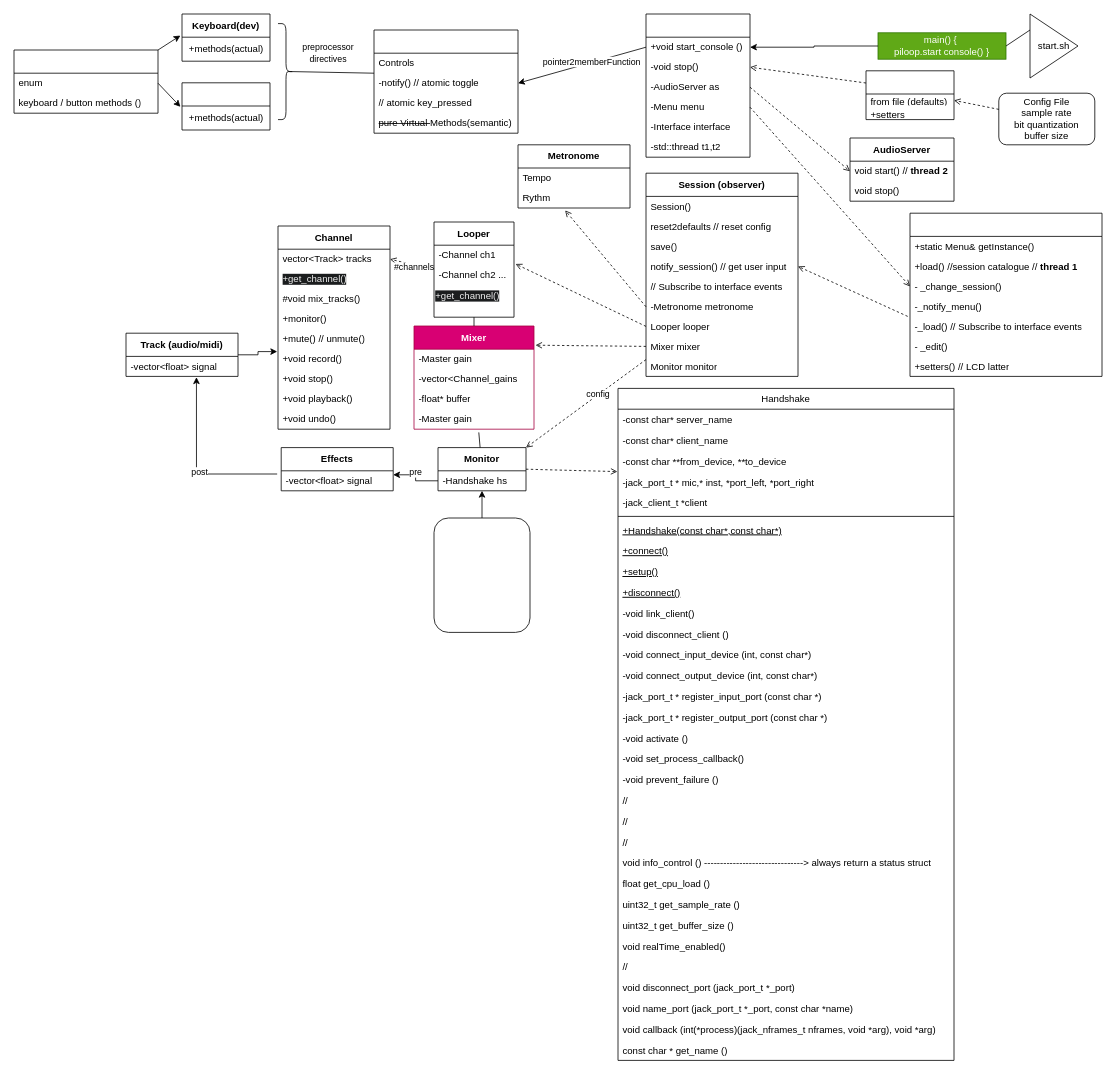
Some shapes in this 1116 by 1077 pixel diagram are drawn without their labels. The box of each missing label's shape, as (x1, y1, x2, y2) in pixels:
Buttons(release): (181, 82, 270, 130)
callback_process(){ // fill master buffer }: (433, 517, 530, 632)
Config(Singleton): (865, 70, 954, 120)
Controls (json?): (13, 49, 158, 113)
Interface ( Abstract ) ( Singleton ) (Observer): (373, 29, 518, 133)
Menu (LCD SCREEN) (Singleton): (909, 212, 1102, 376)
Piloop: (645, 13, 750, 157)
